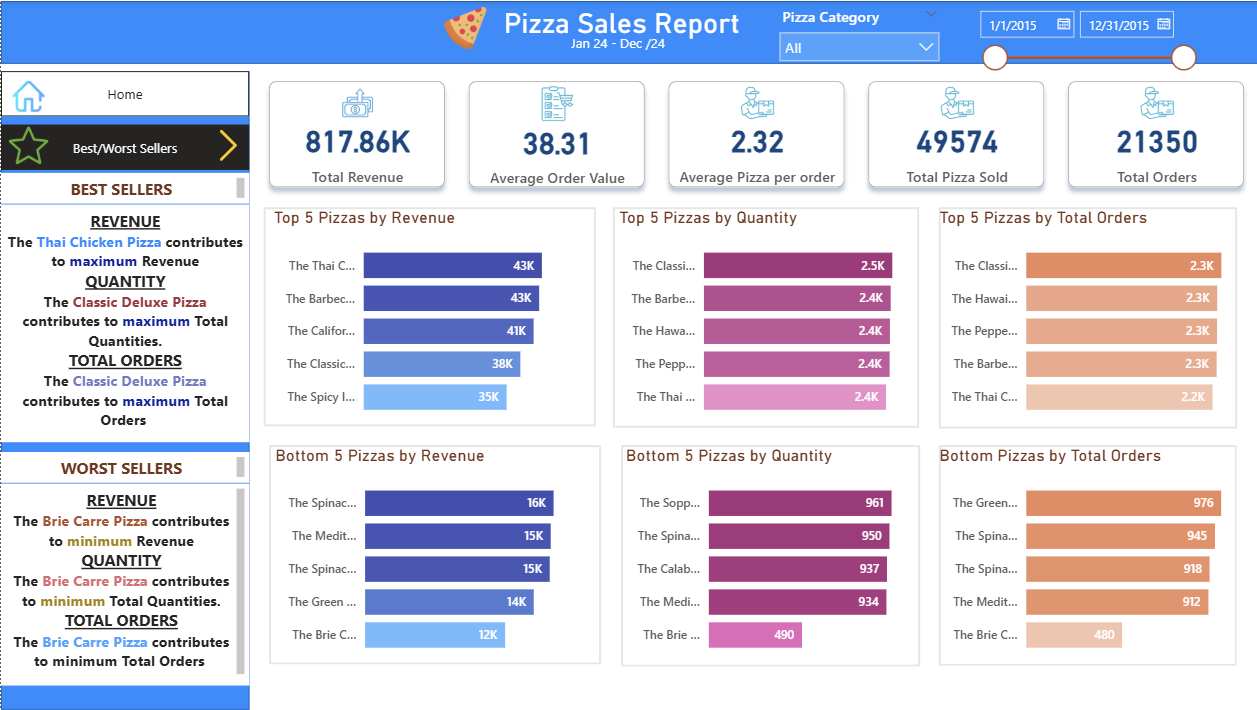

Layout of this report page (visuals, bound fields, positions):
{"tool":"powerbi","page":{"name":"Best/Worst Sellers","canvas":[1280,720],"ordinal":1},"visuals":[{"type":"cardVisual","fields":{"Data":["pizza_sales.Total Revenue","pizza_sales.Average Order Value","pizza_sales.Average Pizza per order","pizza_sales.Total Pizza Sold","pizza_sales.Total Orders"]},"box":[252.5,63.8,1027.5,142.5],"z":0},{"type":"shape","box":[0,0,1280,63.8],"z":1000},{"type":"textbox","box":[441.2,0,378.8,55],"z":2000},{"type":"textbox","box":[573.8,27.5,298.8,43.8],"z":3000},{"type":"image","box":[430,0,82.5,55],"z":4000},{"type":"shape","box":[0,71.2,252.5,648.8],"z":5000},{"type":"shape","box":[272.9,451.4,337.1,222.9],"z":6000},{"type":"shape","box":[630,451.2,303.8,225],"z":7000},{"type":"shape","box":[952.9,451.4,302.9,224.3],"z":8000},{"type":"textbox","box":[0,175,252.5,31.2],"z":9000},{"type":"textbox","box":[0,206.2,252.5,241.2],"z":10000},{"type":"textbox","box":[0,458.8,252.5,31.2],"z":11000},{"type":"textbox","box":[0,490,252.5,205],"z":12000},{"type":"shape","box":[266.2,210,337.5,222.5],"z":13000},{"type":"shape","box":[622.1,209.5,311.1,224],"z":14000},{"type":"shape","box":[952.5,209.5,303.1,224.9],"z":15000},{"type":"barChart","title":"Top 5 Pizzas by Quantity","fields":{"Category":["pizza_sales.pizza_name"],"Y":["pizza_sales.Total Pizza Sold"]},"box":[622.5,210,311.2,225],"z":16000},{"type":"barChart","title":"Top 5 Pizzas by Revenue","fields":{"Category":["pizza_sales.pizza_name"],"Y":["pizza_sales.Total Revenue"]},"box":[272.5,210,331.2,225],"z":17000},{"type":"barChart","title":"Bottom 5 Pizzas by Revenue","fields":{"Category":["pizza_sales.pizza_name"],"Y":["pizza_sales.Total Revenue"]},"box":[273.8,451.2,331.2,225],"z":18000},{"type":"barChart","title":"Bottom 5 Pizzas by Quantity","fields":{"Category":["pizza_sales.pizza_name"],"Y":["pizza_sales.Total Pizza Sold"]},"box":[630,451.2,303.8,225],"z":19000},{"type":"barChart","title":"Top 5 Pizzas by Total Orders","fields":{"Category":["pizza_sales.pizza_name"],"Y":["pizza_sales.Total Orders"]},"box":[948.8,210,321.2,225],"z":20000},{"type":"barChart","title":"Bottom Pizzas by Total Orders","fields":{"Category":["pizza_sales.pizza_name"],"Y":["pizza_sales.Total Orders"]},"box":[948.8,451.2,321.2,225],"z":21000},{"type":"pageNavigator","box":[0,125,252.5,46.2],"z":22000},{"type":"image","box":[210,121.2,42.5,50],"z":23000},{"type":"image","box":[0,121.2,56.2,50],"z":24000},{"type":"pageNavigator","box":[0,71.2,252.5,46.2],"z":25000},{"type":"image","box":[0,75,56.2,42.5],"z":26000},{"type":"slicer","fields":{"Values":["pizza_sales.pizza_category"]},"box":[781.2,0,182.5,71.2],"z":26001},{"type":"slicer","fields":{"Values":["pizza_sales.order_date"]},"box":[981.2,0,241.2,75],"z":26002}]}

Visuals, with their boxes in screenshot pixels (x1, y1, x2, y2), scaled from the page's 1280x720 canvas onto the 1257x710 screenshot:
cardVisual - pizza_sales.Total Revenue x pizza_sales.Average Order Value: 248:63:1256:203
shape: 0:0:1256:63
textbox: 433:0:805:54
textbox: 563:27:857:70
image: 422:0:503:54
shape: 0:70:248:709
shape: 268:445:599:665
shape: 619:445:917:667
shape: 936:445:1233:666
textbox: 0:173:248:203
textbox: 0:203:248:441
textbox: 0:452:248:483
textbox: 0:483:248:685
shape: 261:207:593:426
shape: 611:207:916:427
shape: 935:207:1233:428
"Top 5 Pizzas by Quantity" barChart: 611:207:917:429
"Top 5 Pizzas by Revenue" barChart: 268:207:593:429
"Bottom 5 Pizzas by Revenue" barChart: 269:445:594:667
"Bottom 5 Pizzas by Quantity" barChart: 619:445:917:667
"Top 5 Pizzas by Total Orders" barChart: 932:207:1247:429
"Bottom Pizzas by Total Orders" barChart: 932:445:1247:667
pageNavigator: 0:123:248:169
image: 206:120:248:169
image: 0:120:55:169
pageNavigator: 0:70:248:116
image: 0:74:55:116
slicer - pizza_sales.pizza_category: 767:0:946:70
slicer - pizza_sales.order_date: 964:0:1200:74
